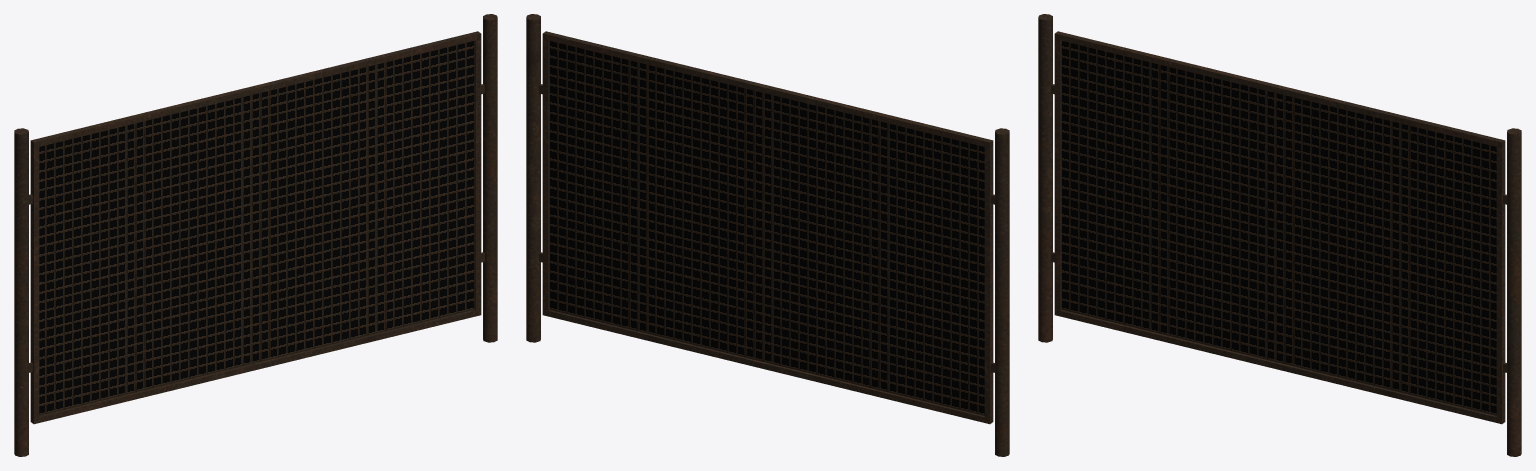
Rendered from fence_e_1.obj.
3 views of the same model, side by side, from view 1: azimuth 30°, elevation 25°; view 2: azimuth 150°, elevation 25°; view 3: azimuth 330°, elevation 25° (orthographic).
Parts seen in each view (by area): view 1: fence_e_1; view 2: fence_e_1; view 3: fence_e_1.
Boxes of the visible parts, x1,y1,x2,y2 form: fence_e_1: [14, 14, 497, 456]; fence_e_1: [526, 14, 1009, 456]; fence_e_1: [1038, 14, 1521, 456].
Size of the model in its own units: 3.6 by 2.3 by 0.1.
